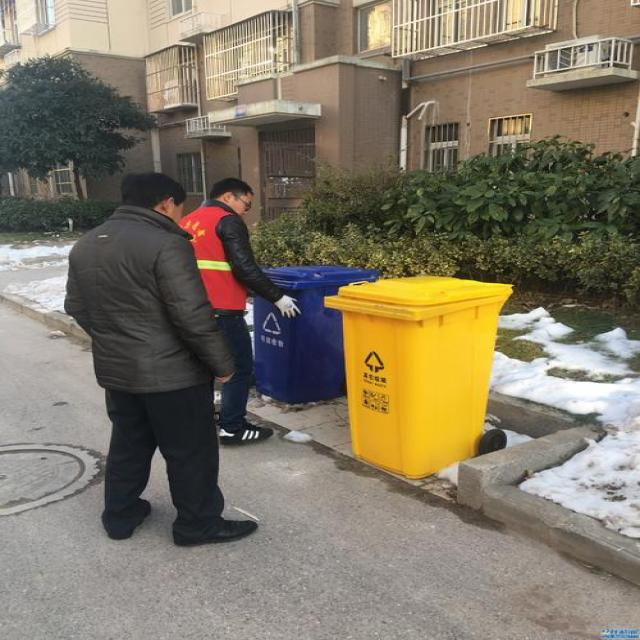garbage_bin: (323, 275, 513, 478), (252, 265, 375, 403)
